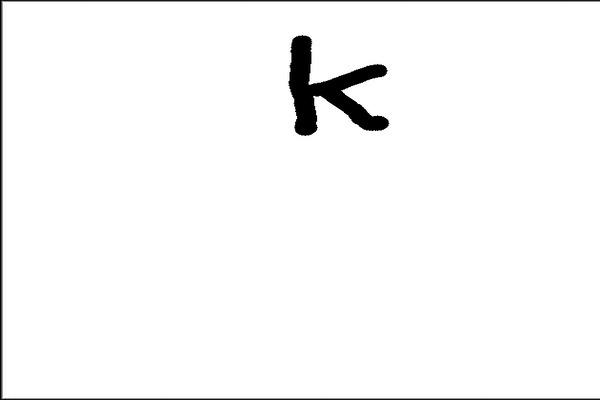K: (282, 26, 393, 140)
